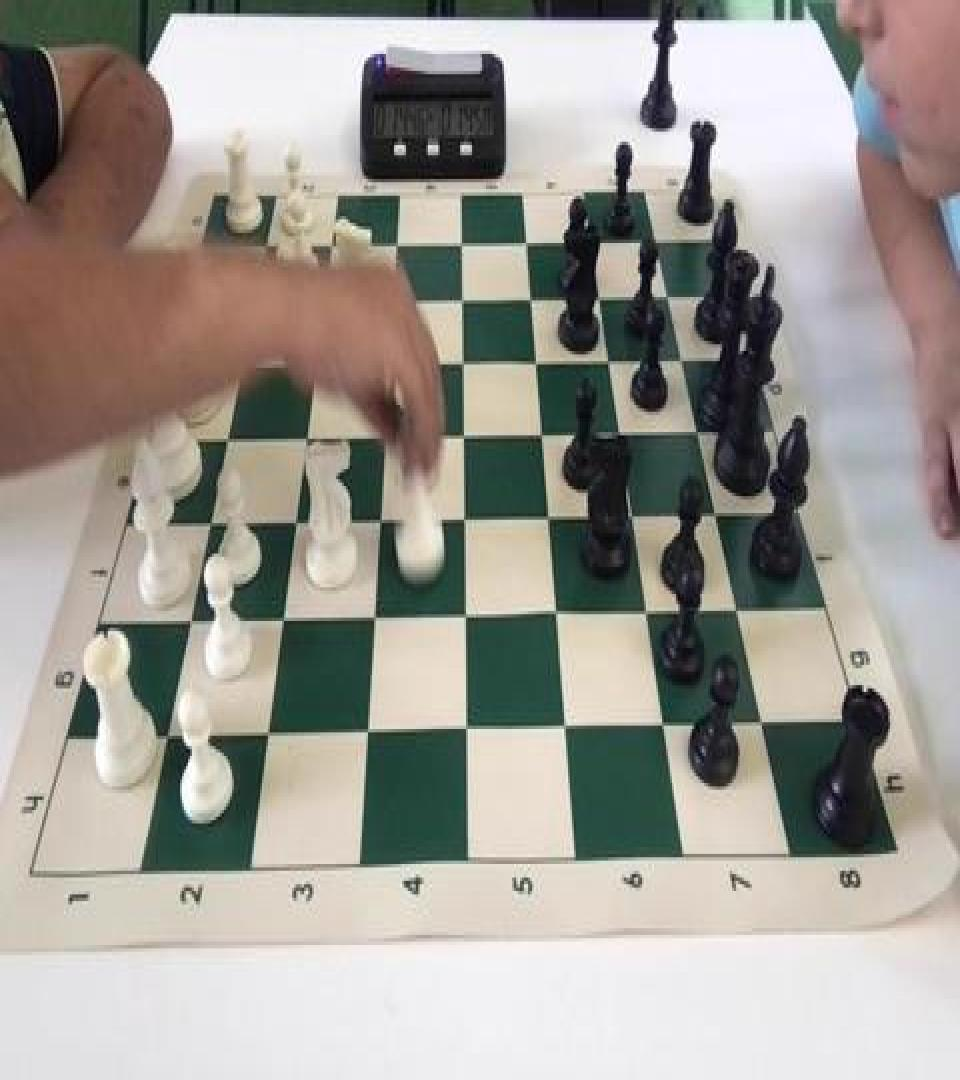xcorner: (662, 285, 686, 326), (594, 285, 618, 326), (526, 285, 550, 326), (457, 285, 481, 326), (388, 285, 412, 326), (614, 420, 638, 461), (536, 420, 560, 461), (458, 420, 482, 461), (379, 420, 403, 461), (300, 420, 324, 461), (220, 420, 244, 461), (709, 501, 733, 542), (626, 501, 650, 542), (640, 597, 664, 638), (550, 597, 574, 638), (460, 599, 484, 640), (183, 602, 207, 643), (753, 705, 777, 746), (657, 707, 681, 748), (559, 710, 583, 751), (461, 712, 485, 753), (159, 717, 183, 758), (650, 230, 674, 270), (586, 230, 610, 270), (521, 230, 545, 270), (457, 228, 481, 268), (391, 228, 415, 268), (325, 228, 349, 268), (259, 228, 283, 268), (318, 284, 342, 324), (248, 284, 272, 324), (675, 348, 699, 388), (603, 348, 627, 388), (531, 348, 555, 388), (458, 348, 482, 388), (384, 348, 408, 388), (310, 348, 334, 388), (235, 348, 259, 388), (691, 419, 715, 459), (543, 503, 567, 543), (459, 503, 483, 543), (374, 503, 398, 543), (289, 505, 313, 545), (203, 505, 227, 545), (729, 596, 753, 636), (368, 601, 392, 641), (276, 601, 300, 641), (361, 714, 385, 754), (261, 716, 285, 756)
